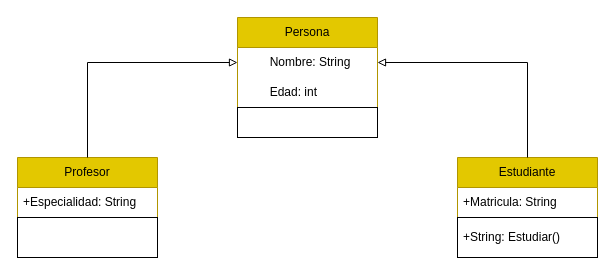
Image size: 615x275. Some labels were removed from this diagram. The box of each missing label's shape, as (x1, y1, x2, y2) in pixels:
+String: Enseñar(): (16, 216, 158, 258)
String: saludar(): (236, 106, 378, 138)
